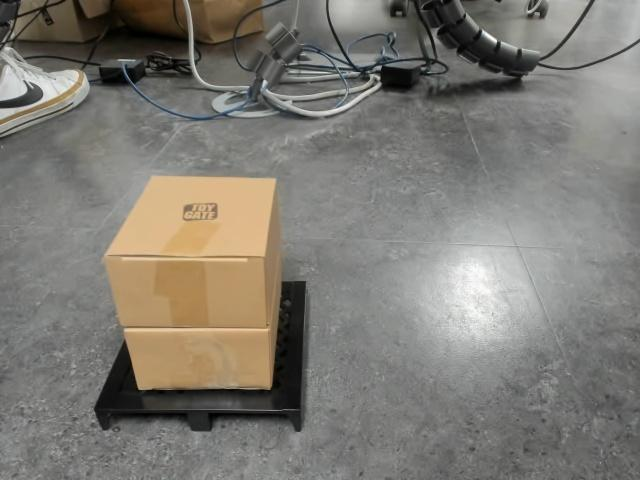box: (92, 174, 307, 431)
